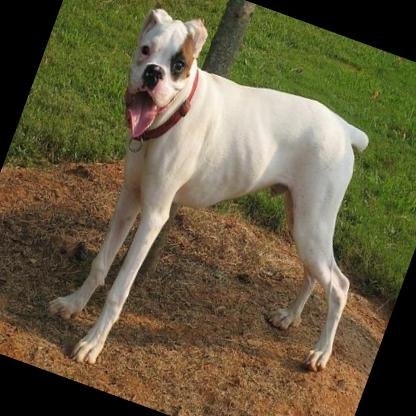boxer: (24, 0, 416, 416)
